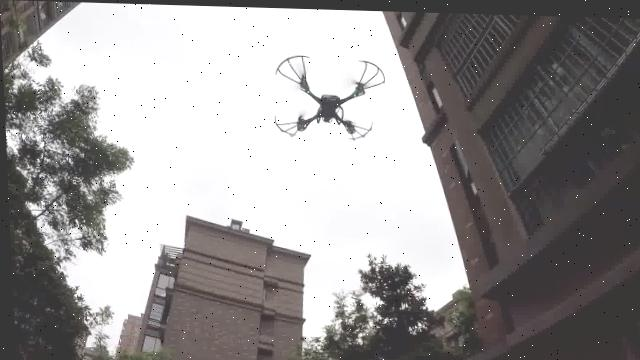drone: (272, 48, 382, 143)
